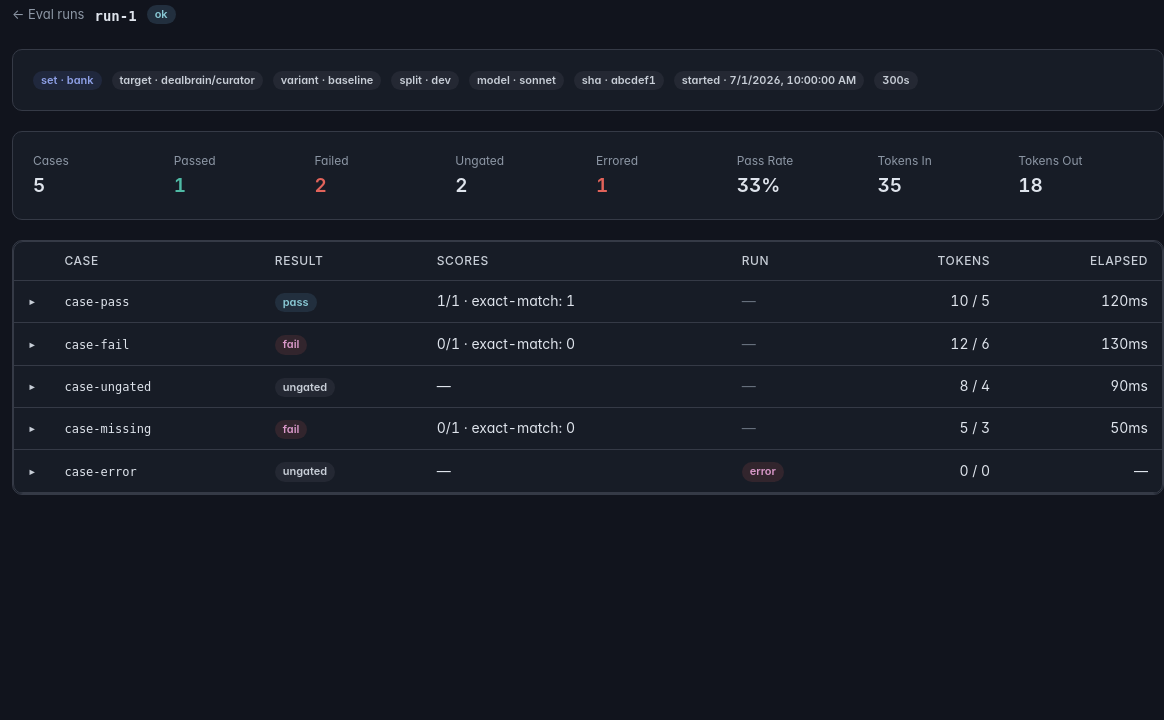
EvalRunDetailPage › a case absent from the bank shows the 'not in bank' fallback
Click the text "case-missing": coordinates (108, 429) [64,422,151,436]
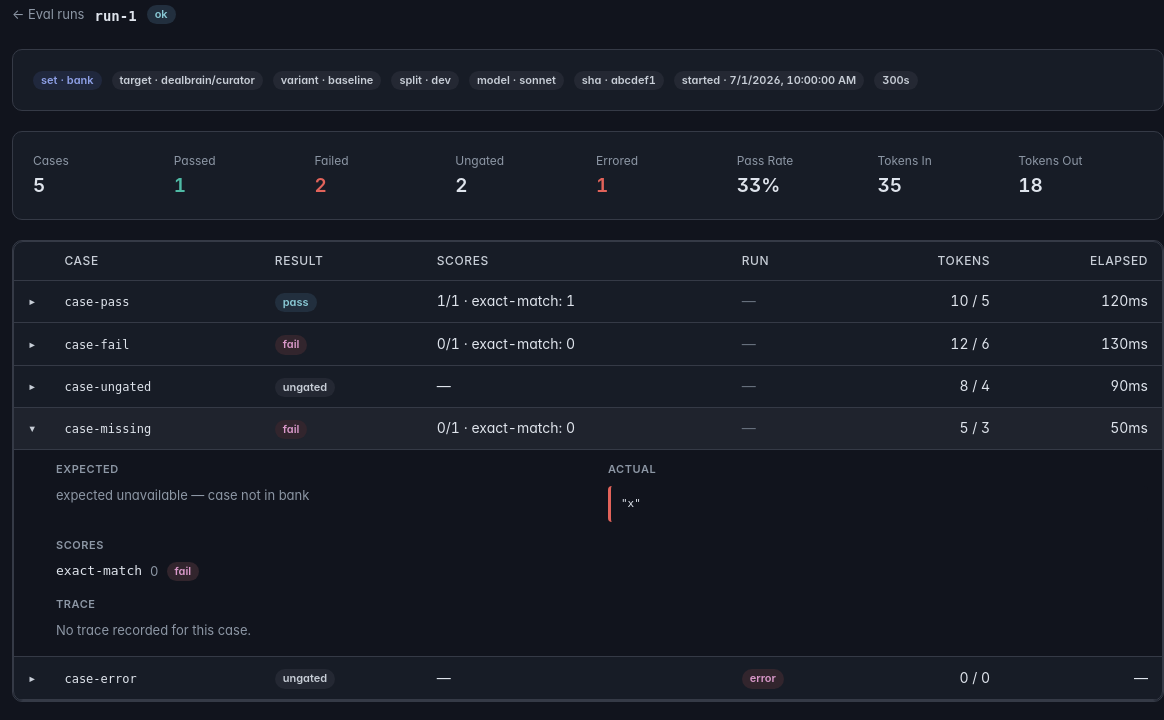
Expected: the text "expected unavailable — case not in bank" is shown, [56,487,309,503]
